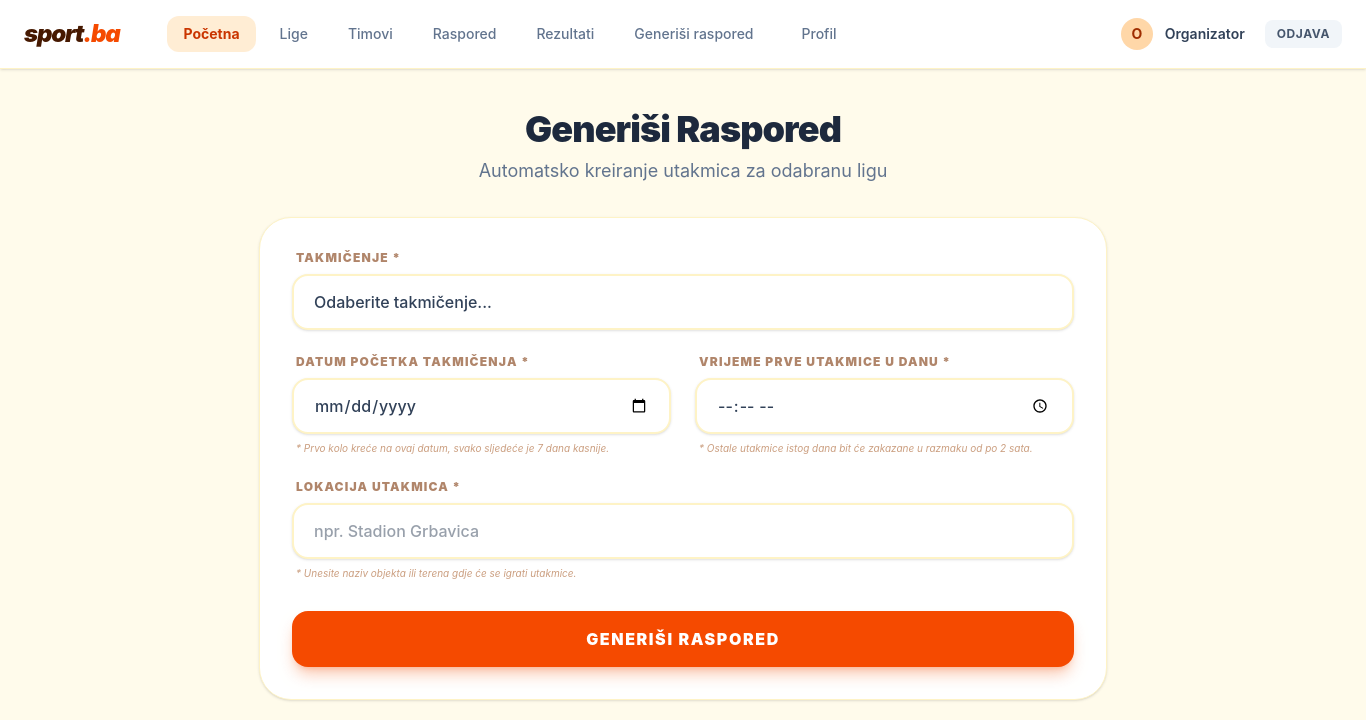
Scenario: GenerateSchedule › prikazuje grešku pri neuspješnom generisanju
Select "Premijer liga" in the dropdown labelled "Takmičenje *": (683, 302) [292,274,1074,330]
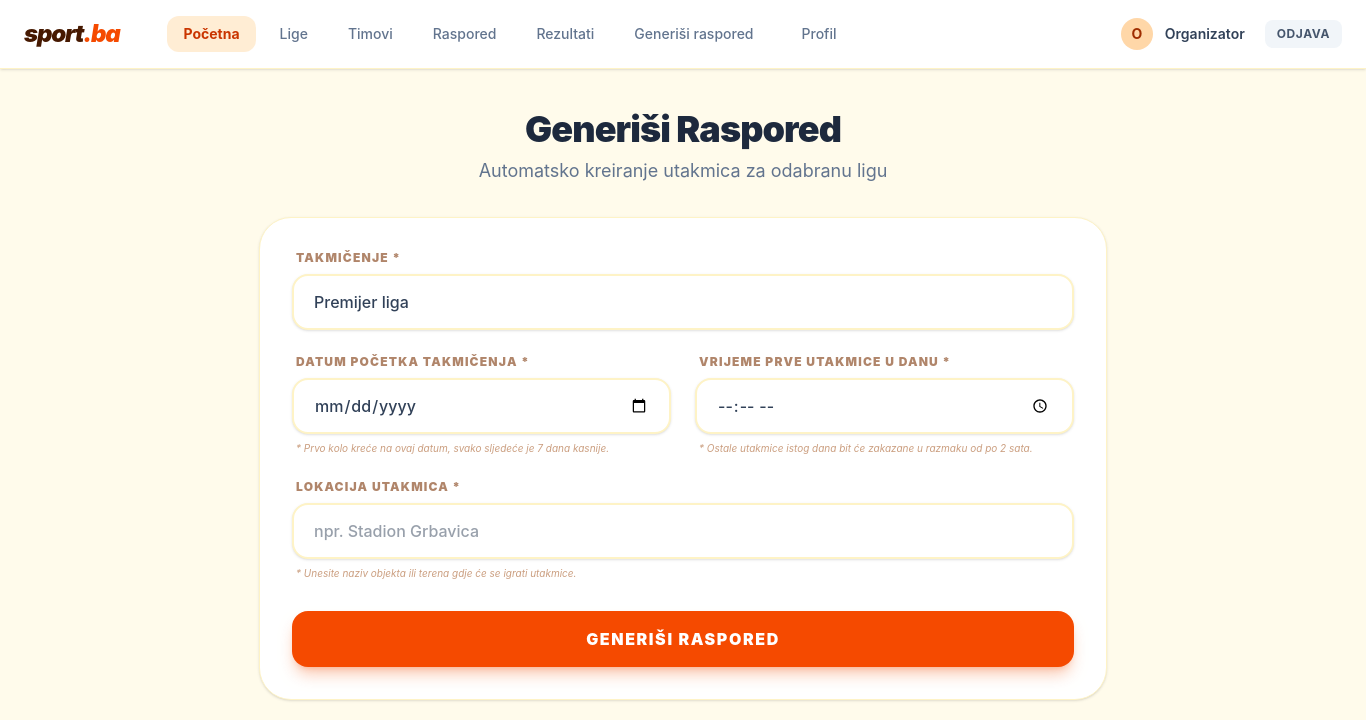
In the date field labelled "Datum početka takmičenja *": (482, 406) [292,378,671,434], type "2024-01-01"
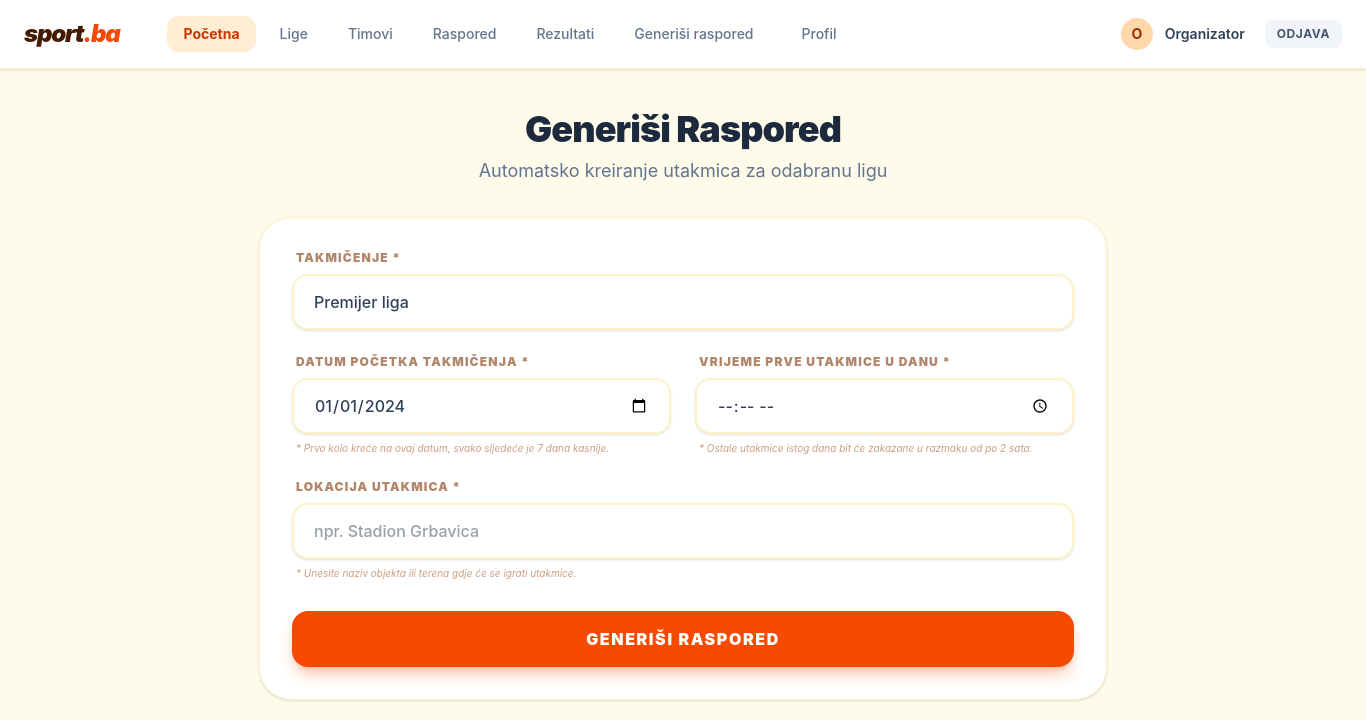
In the time field labelled "Vrijeme prve utakmice u danu *": (884, 406) [695,378,1074,434], type "15:00"
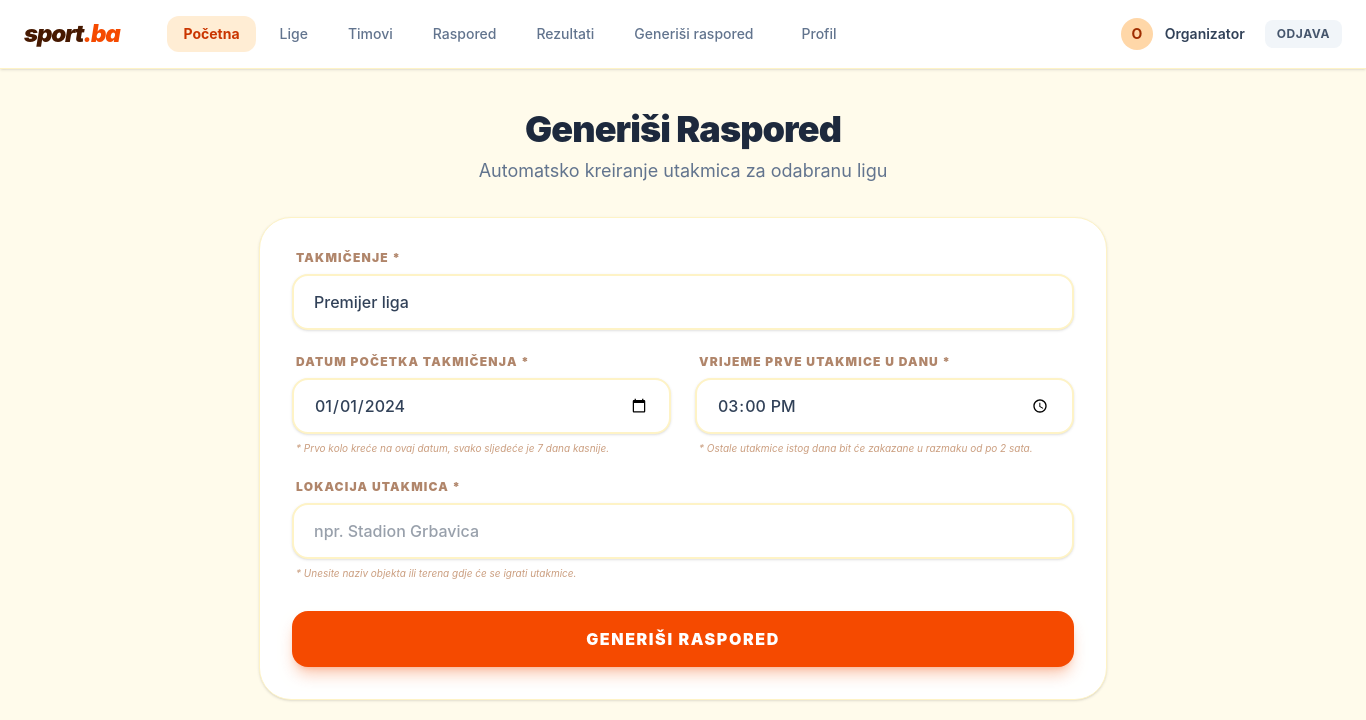
Click the button "Generiši raspored": (683, 639) [292,611,1074,667]
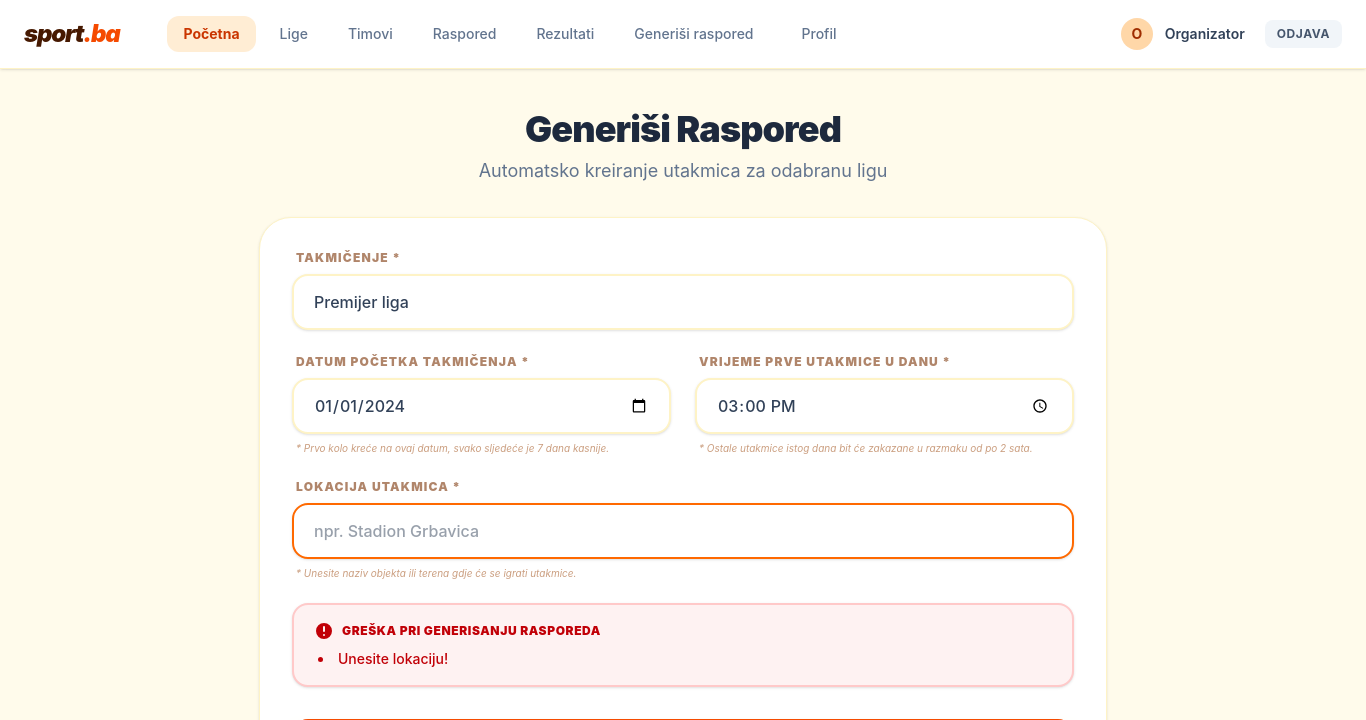
Now the text "Greška pri generisanju rasporeda" is shown, box [342,623,601,639]
